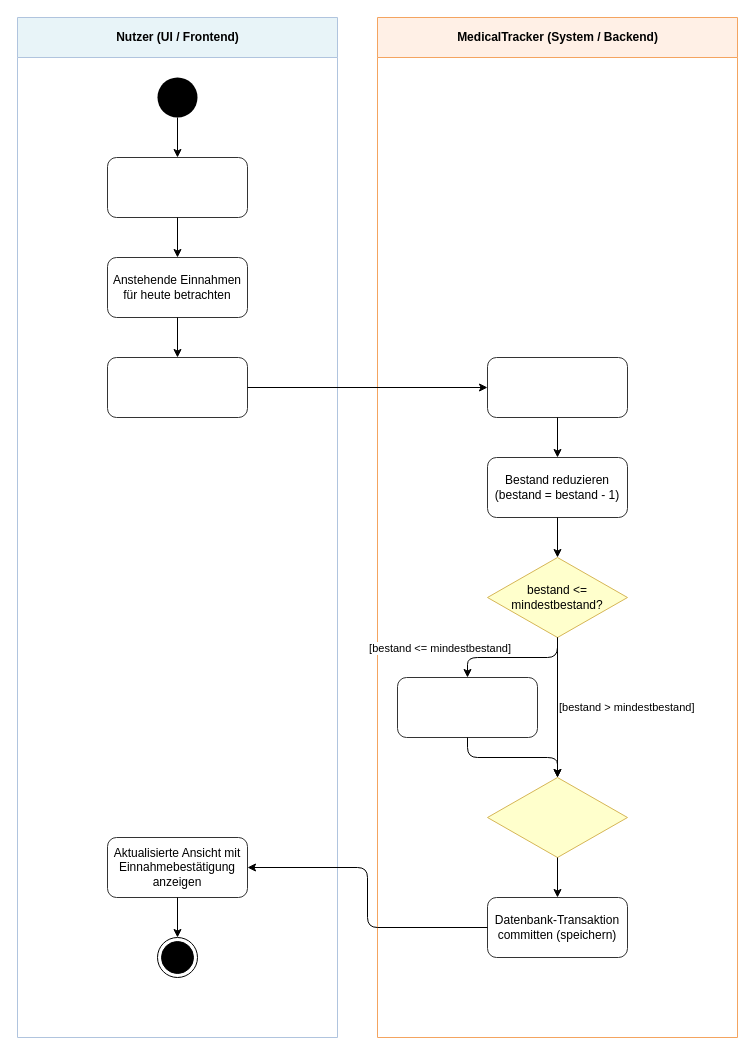
The diagram is 755 pixels wide and 1055 high, and some of its shapes have lost their labels. Here are the shapes that lost their labels. From the top down, the centre of each, then its label:
point 177,187: Tagesansicht aufrufen
point 177,387: Einnahme einer Dosis bestätigen
point 557,387: Einnahmezeitstempel in Historie protokollieren
point 467,707: Visuellen Nachbestell-Warnhinweis auf Dashboard setzen
